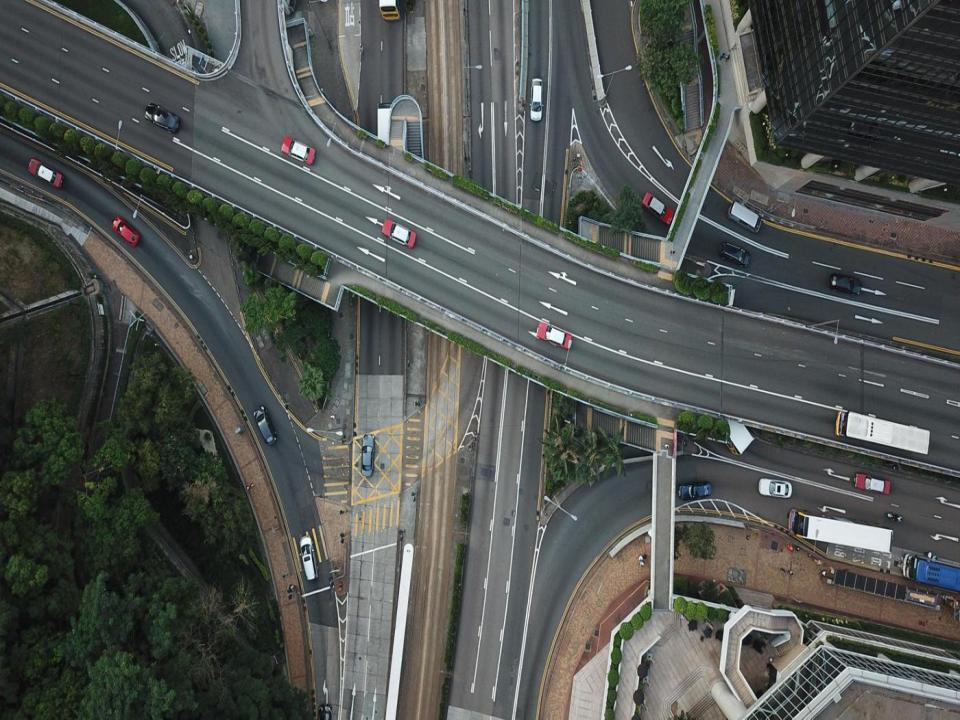bus: (789, 507, 893, 557), (900, 553, 960, 591)
car: (26, 154, 65, 194), (642, 190, 677, 223), (537, 318, 573, 349), (145, 100, 179, 132), (278, 136, 318, 163), (380, 219, 417, 248), (296, 536, 320, 580), (757, 474, 793, 502), (829, 269, 863, 298), (720, 241, 752, 270), (255, 406, 276, 444), (113, 216, 139, 246), (675, 480, 712, 500), (528, 78, 544, 122), (854, 476, 892, 493), (361, 432, 372, 473)
van: (724, 198, 763, 235)
